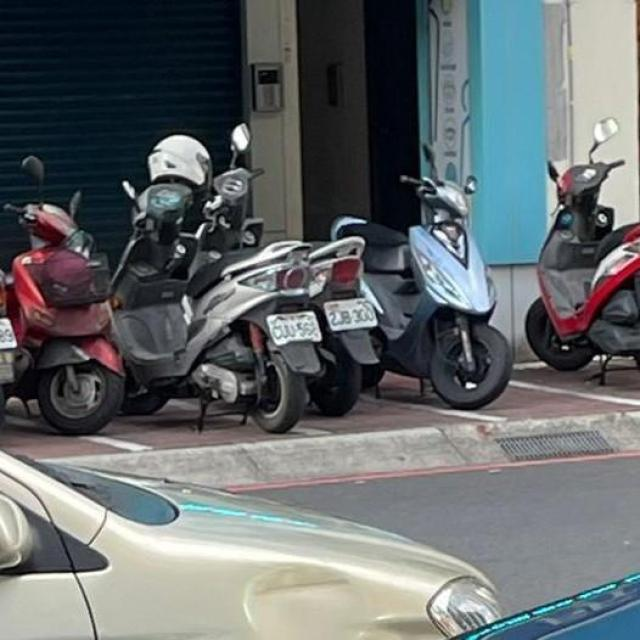W: (264, 304, 325, 348), (318, 294, 379, 334), (0, 311, 19, 356)
